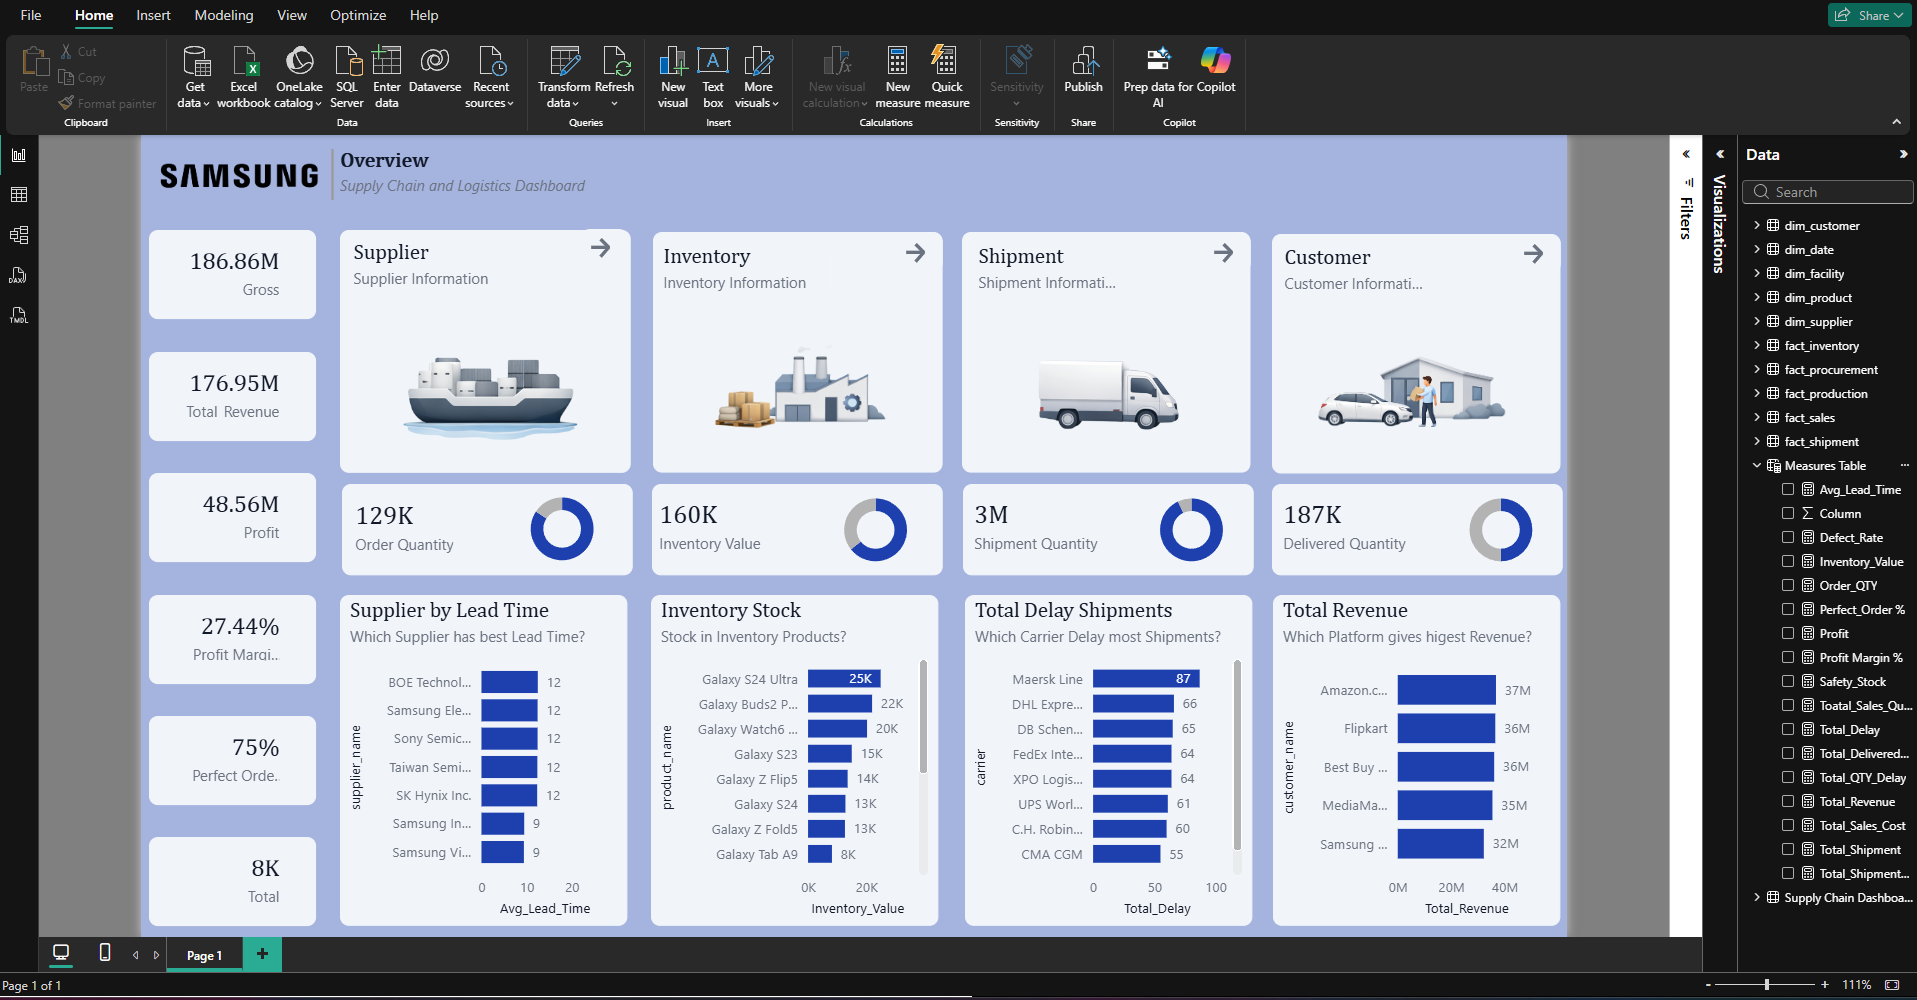

The page's visual inventory and layout, read from the dashboard file:
{"tool":"powerbi","page":{"name":"Page 1","canvas":[1280,720],"ordinal":0},"visuals":[{"type":"shape","title":"Overview","box":[179,12.9,227.8,53.7],"z":0},{"type":"shape","box":[179,85.5,260.6,217.8],"z":1000},{"type":"shape","box":[459.5,87.5,259.6,215.8],"z":2000},{"type":"shape","box":[737,87.5,258.6,215.8],"z":3000},{"type":"shape","box":[1015.4,88.5,258.6,214.8],"z":4000},{"type":"image","box":[216.8,165.1,185,124.3],"z":5000},{"type":"image","box":[496.3,166.1,180,111.4],"z":6000},{"type":"image","box":[780.7,181,171.1,93.5],"z":7000},{"type":"image","box":[1048.3,174,192.9,107.4],"z":8000},{"type":"actionButton","box":[1232.3,89.6,41.8,34],"z":9000},{"type":"actionButton","box":[953.9,88.6,41.8,34],"z":10000},{"type":"actionButton","box":[677.5,88.6,41.8,34],"z":11000},{"type":"actionButton","box":[395.2,84.7,41.8,34],"z":12000},{"type":"shape","title":"Supplier","box":[187,91.5,130.3,53.5],"z":13000},{"type":"shape","title":"Customer","box":[1022.2,96.4,130.3,53.5],"z":14000},{"type":"shape","title":"Shipment","box":[747.7,95.4,130.3,53.5],"z":15000},{"type":"shape","title":"Inventory","box":[465.4,95.4,154.7,53.5],"z":16000},{"type":"shape","box":[157.1,12.6,29.6,45.8],"z":17000},{"type":"image","box":[6.7,2.5,157,66.8],"z":18000},{"type":"cardVisual","fields":{"Data":["Measures Table.Total_Revenue"]},"box":[7,194.5,150.2,80],"z":19000},{"type":"cardVisual","fields":{"Data":["Measures Table.Profit"]},"box":[7,303.5,150.2,80],"z":20000},{"type":"cardVisual","fields":{"Data":["Measures Table.Profit Margin %"]},"box":[7,412.5,150.2,80],"z":21000},{"type":"cardVisual","fields":{"Data":["Measures Table.Perfect_Order %"]},"box":[7,521.5,150.2,80],"z":22000},{"type":"cardVisual","fields":{"Data":["Measures Table.Total_Shipment"]},"box":[7,630.6,150.2,80],"z":23000},{"type":"cardVisual","fields":{"Data":["Sum(fact_sales.gross_revenue)"]},"box":[7,85.5,150.2,80],"z":24000},{"type":"shape","box":[180,313.3,260.6,81.6],"z":25000},{"type":"shape","box":[458.5,313.3,260.6,81.6],"z":26000},{"type":"shape","box":[738,313.3,260.6,81.6],"z":27000},{"type":"shape","box":[1015.4,313.3,260.6,81.6],"z":28000},{"type":"cardVisual","fields":{"Data":["Measures Table.Order_QTY"]},"box":[163.1,314.3,147.2,80.6],"z":29000},{"type":"cardVisual","fields":{"Data":["Measures Table.Inventory_Value"]},"box":[436.6,313.3,152.2,80.6],"z":30000},{"type":"cardVisual","fields":{"Data":["Measures Table.Total_Shipment_Quantity"]},"box":[719.1,313.3,169.1,80.6],"z":31000},{"type":"cardVisual","fields":{"Data":["Measures Table.Total_Delivered_Quantity"]},"box":[996.6,313.3,170.1,80.6],"z":32000},{"type":"clusteredBarChart","title":"Supplier by Lead Time","fields":{"Y":["Measures Table.Avg_Lead_Time"],"Category":["dim_supplier.supplier_name"]},"box":[179,412.7,257.6,297.4],"z":33000},{"type":"clusteredBarChart","title":"Inventory Stock","fields":{"Category":["dim_product.product_name"],"Y":["Measures Table.Inventory_Value"]},"box":[457.5,412.7,257.6,297.4],"z":34000},{"type":"clusteredBarChart","title":"Total Delay Shipments","fields":{"Y":["Measures Table.Total_Delay"],"Category":["fact_shipment.carrier"]},"box":[740,412.7,257.6,297.4],"z":35000},{"type":"clusteredBarChart","title":"Total Revenue","fields":{"Y":["Measures Table.Total_Revenue"],"Category":["dim_customer.customer_name"]},"box":[1016.4,412.7,257.6,297.4],"z":36000},{"type":"donutChart","fields":{"Y":["Measures Table.Inventory_Value","Measures Table.Safety_Stock"]},"box":[603.7,314.3,112.4,80.6],"z":37000},{"type":"donutChart","fields":{"Y":["Measures Table.Total_Shipment","Measures Table.Total_Delay"]},"box":[888.1,314.3,110.4,80.6],"z":38000},{"type":"donutChart","fields":{"Y":["Measures Table.Total_Delivered_Quantity","Measures Table.Total_Delay1"]},"box":[1166.6,314.3,109.4,80.6],"z":39000},{"type":"donutChart","fields":{"Y":["Measures Table.Order_QTY","Measures Table.Defect_Rate"]},"box":[317.3,313.3,122.3,80.6],"z":40000}]}

Visuals, with their boxes on the page's 1280x720 design canvas (x1, y1, x2, y2). These are canvas units, not pixel positions in the 1917x1000 screenshot, which may show the page scaled, cropped or inside an application window:
"Overview" shape: BBox(179, 13, 407, 67)
shape: BBox(179, 86, 440, 303)
shape: BBox(460, 88, 719, 303)
shape: BBox(737, 88, 996, 303)
shape: BBox(1015, 88, 1274, 303)
image: BBox(217, 165, 402, 289)
image: BBox(496, 166, 676, 278)
image: BBox(781, 181, 952, 274)
image: BBox(1048, 174, 1241, 281)
actionButton: BBox(1232, 90, 1274, 124)
actionButton: BBox(954, 89, 996, 123)
actionButton: BBox(678, 89, 719, 123)
actionButton: BBox(395, 85, 437, 119)
"Supplier" shape: BBox(187, 92, 317, 145)
"Customer" shape: BBox(1022, 96, 1152, 150)
"Shipment" shape: BBox(748, 95, 878, 149)
"Inventory" shape: BBox(465, 95, 620, 149)
shape: BBox(157, 13, 187, 58)
image: BBox(7, 2, 164, 69)
cardVisual - Measures Table.Total_Revenue: BBox(7, 194, 157, 274)
cardVisual - Measures Table.Profit: BBox(7, 304, 157, 384)
cardVisual - Measures Table.Profit Margin %: BBox(7, 412, 157, 492)
cardVisual - Measures Table.Perfect_Order %: BBox(7, 522, 157, 602)
cardVisual - Measures Table.Total_Shipment: BBox(7, 631, 157, 711)
cardVisual - Sum(fact_sales.gross_revenue): BBox(7, 86, 157, 166)
shape: BBox(180, 313, 441, 395)
shape: BBox(458, 313, 719, 395)
shape: BBox(738, 313, 999, 395)
shape: BBox(1015, 313, 1276, 395)
cardVisual - Measures Table.Order_QTY: BBox(163, 314, 310, 395)
cardVisual - Measures Table.Inventory_Value: BBox(437, 313, 589, 394)
cardVisual - Measures Table.Total_Shipment_Quantity: BBox(719, 313, 888, 394)
cardVisual - Measures Table.Total_Delivered_Quantity: BBox(997, 313, 1167, 394)
"Supplier by Lead Time" clusteredBarChart: BBox(179, 413, 437, 710)
"Inventory Stock" clusteredBarChart: BBox(458, 413, 715, 710)
"Total Delay Shipments" clusteredBarChart: BBox(740, 413, 998, 710)
"Total Revenue" clusteredBarChart: BBox(1016, 413, 1274, 710)
donutChart - Measures Table.Inventory_Value x Measures Table.Safety_Stock: BBox(604, 314, 716, 395)
donutChart - Measures Table.Total_Shipment x Measures Table.Total_Delay: BBox(888, 314, 998, 395)
donutChart - Measures Table.Total_Delivered_Quantity x Measures Table.Total_Delay1: BBox(1167, 314, 1276, 395)
donutChart - Measures Table.Order_QTY x Measures Table.Defect_Rate: BBox(317, 313, 440, 394)
